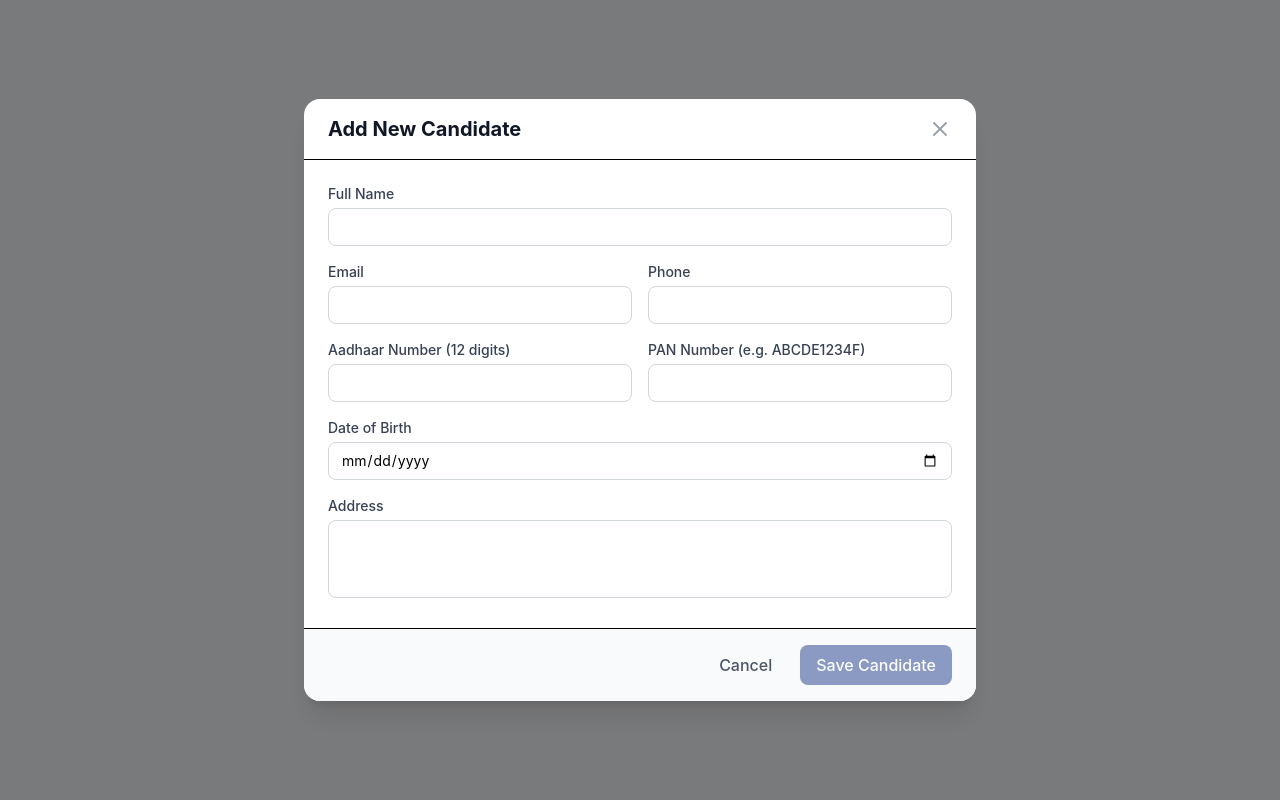
Test: CandidateFormModal › validates Aadhaar and PAN numbers
Type "123" into the field labelled "Aadhaar Number (12 digits)" at coordinates (480, 383), box [328,364,632,402]
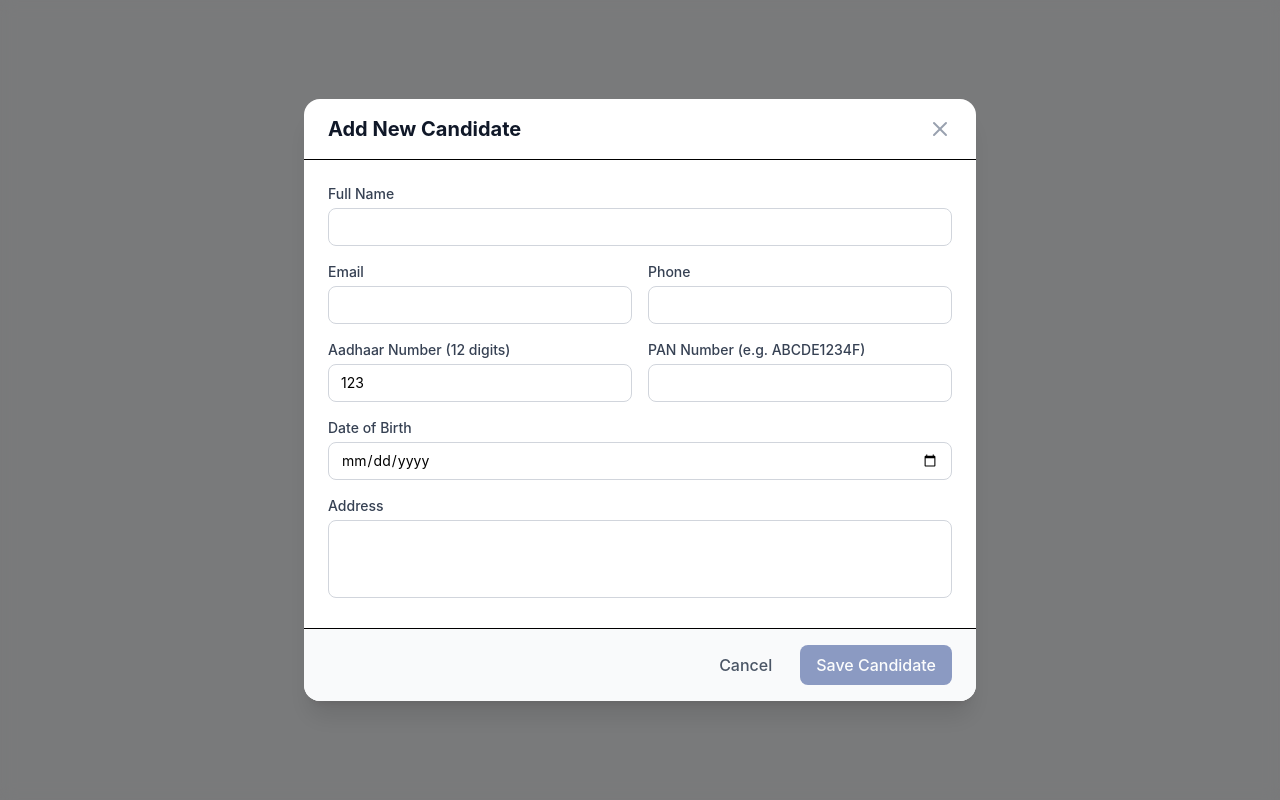
Type "12345" into the field labelled "PAN Number (e.g. ABCDE1234F)" at coordinates (800, 383), box [648,364,952,402]
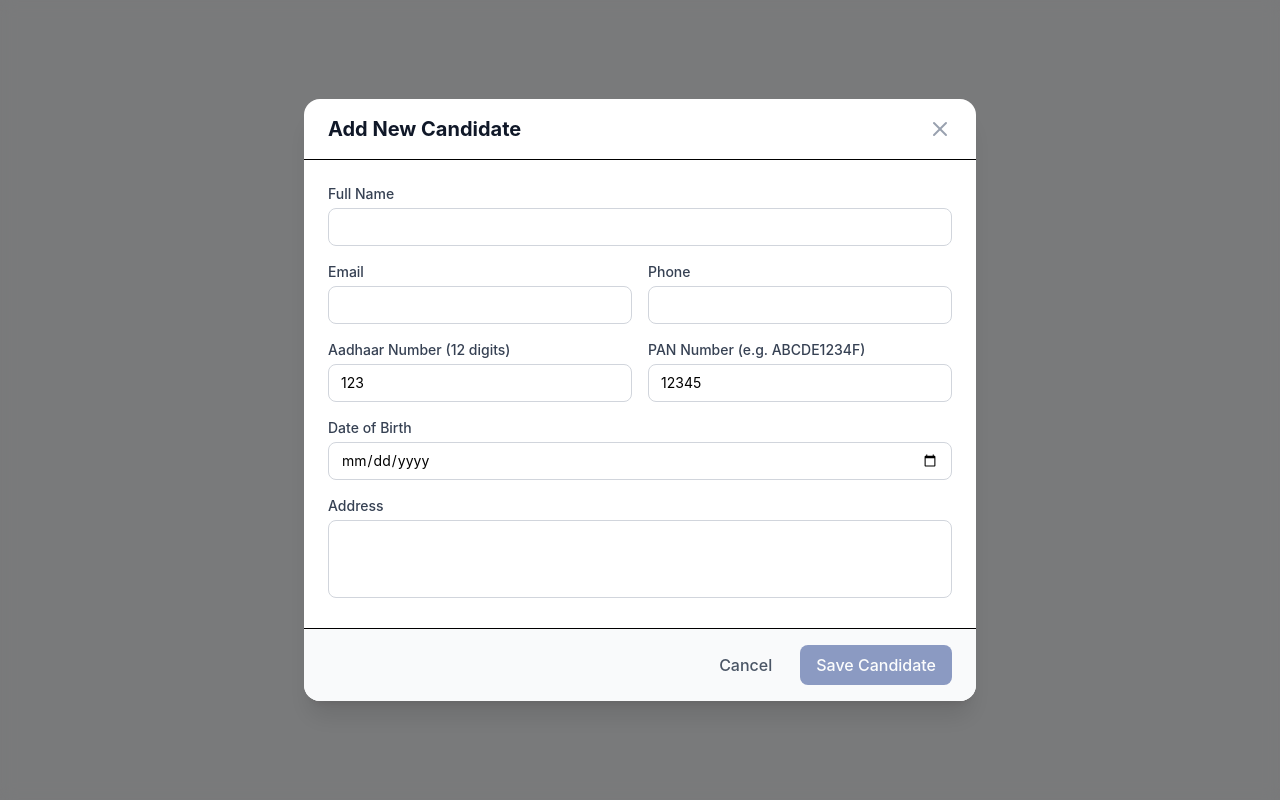
Note: Attempt to submit to trigger validation
Click the button "Save Candidate" at coordinates (876, 665), box [800,645,952,685]
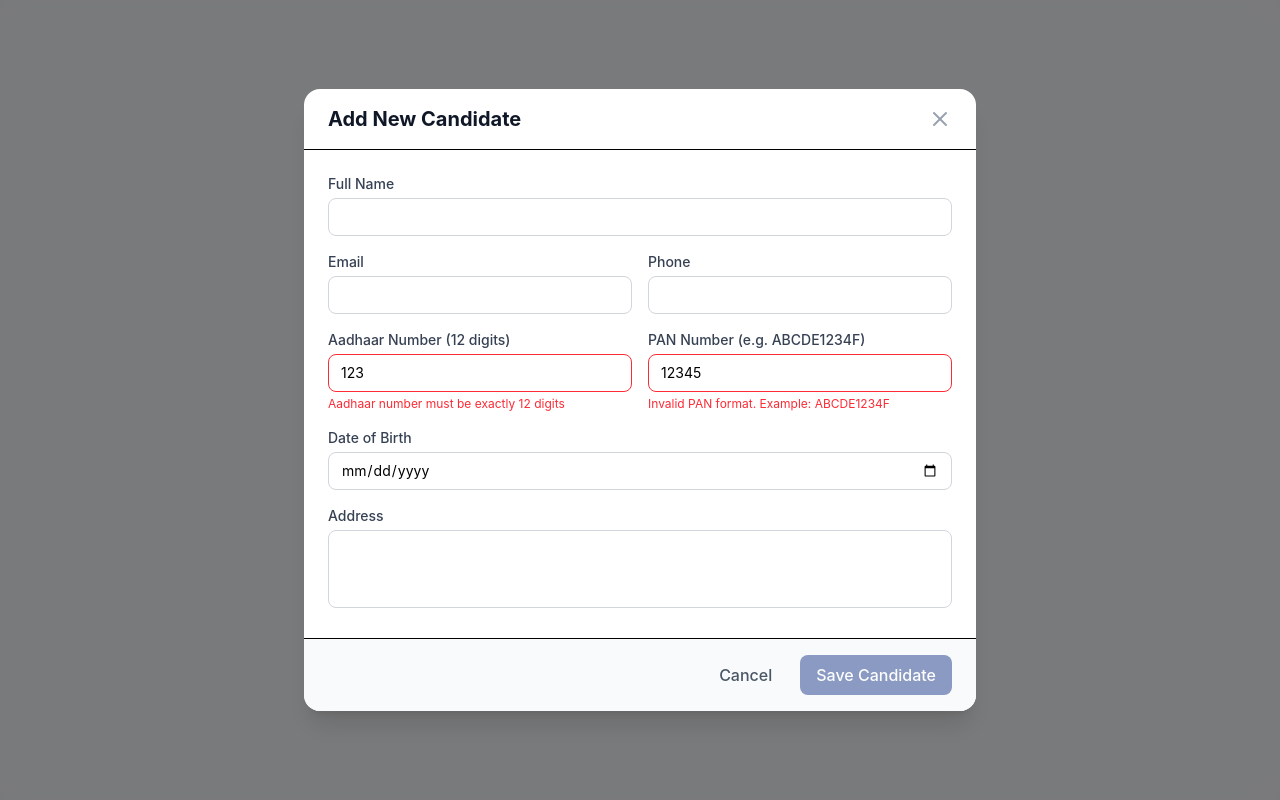
Check: the text "Aadhaar number must be exactly 12 digits" is shown, box [328,396,565,411]
Check: the text "Invalid PAN format. Example: ABCDE1234F" is shown, box [648,396,890,411]
